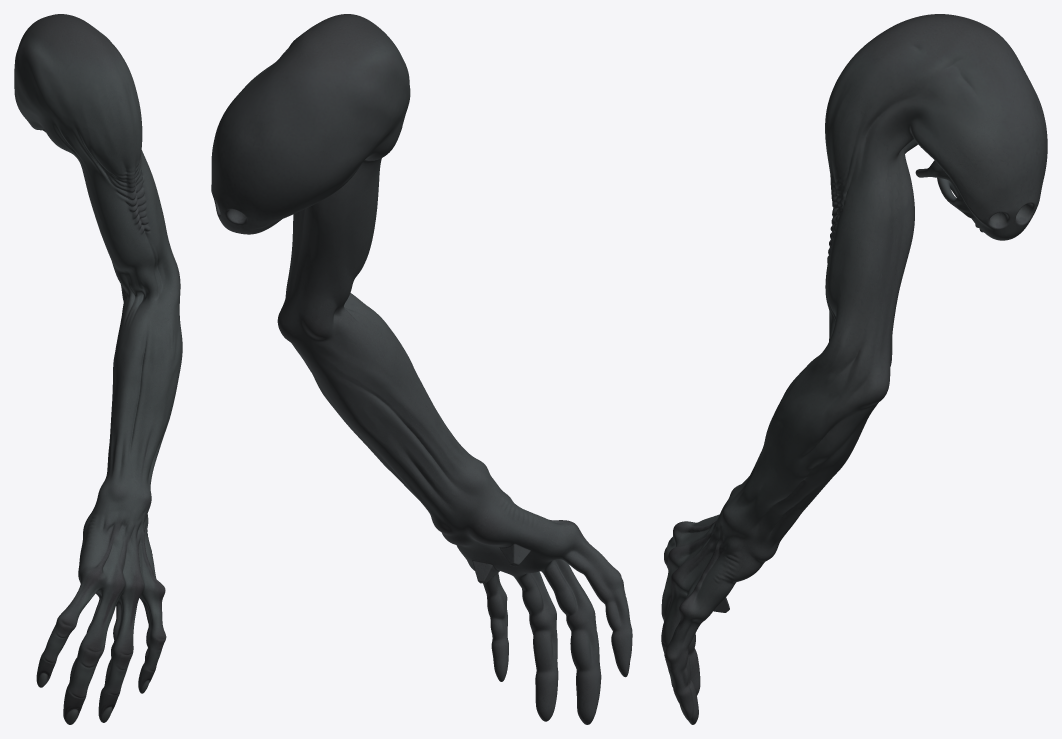
The model's file is original-left-textured.glb.
The picture shows the model from 3 angles, left to right: view 1: azimuth 30°, elevation 25°; view 2: azimuth 150°, elevation 25°; view 3: azimuth 270°, elevation 25°; orthographic projection. The views are drawn at different scales.
Visible parts, largest first — view 1: Mesh_0; view 2: Mesh_0; view 3: Mesh_0.
Part boxes in pixels (x1,y1,x2,y2): Mesh_0: (14,14,182,724); Mesh_0: (211,14,632,724); Mesh_0: (661,14,1047,724).
Size of the model in its own units: 0.7035 by 2 by 0.9406.
1 material, 1 textured.
